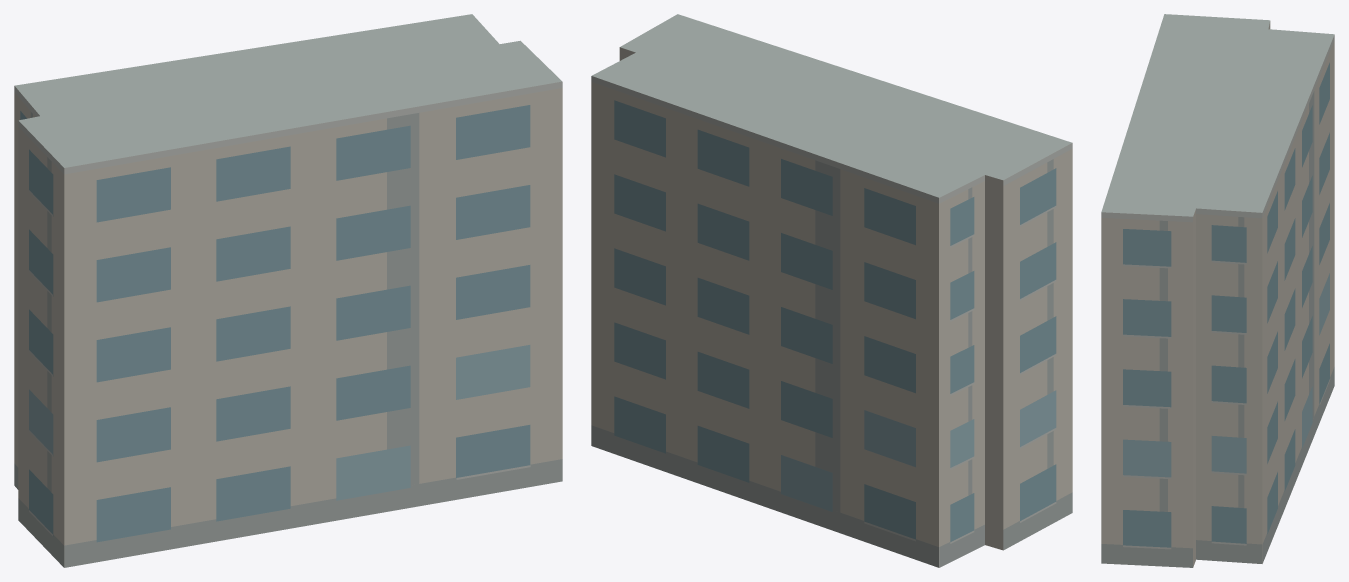
File: survey-upis-32591642.glb
3 views of the same model, side by side, from view 1: azimuth 30°, elevation 25°; view 2: azimuth 150°, elevation 25°; view 3: azimuth 270°, elevation 25° (orthographic). The views are drawn at different scales.
Parts seen in each view (by area): view 1: survey-upis-32591642.tmp; view 2: survey-upis-32591642.tmp; view 3: survey-upis-32591642.tmp.
Boxes of the visible parts, x1=… form: survey-upis-32591642.tmp: x1=14, y1=14, x2=562, y2=567; survey-upis-32591642.tmp: x1=591, y1=14, x2=1072, y2=567; survey-upis-32591642.tmp: x1=1101, y1=14, x2=1334, y2=567.
Size of the model in its own units: 18.88 by 15.25 by 9.19.
